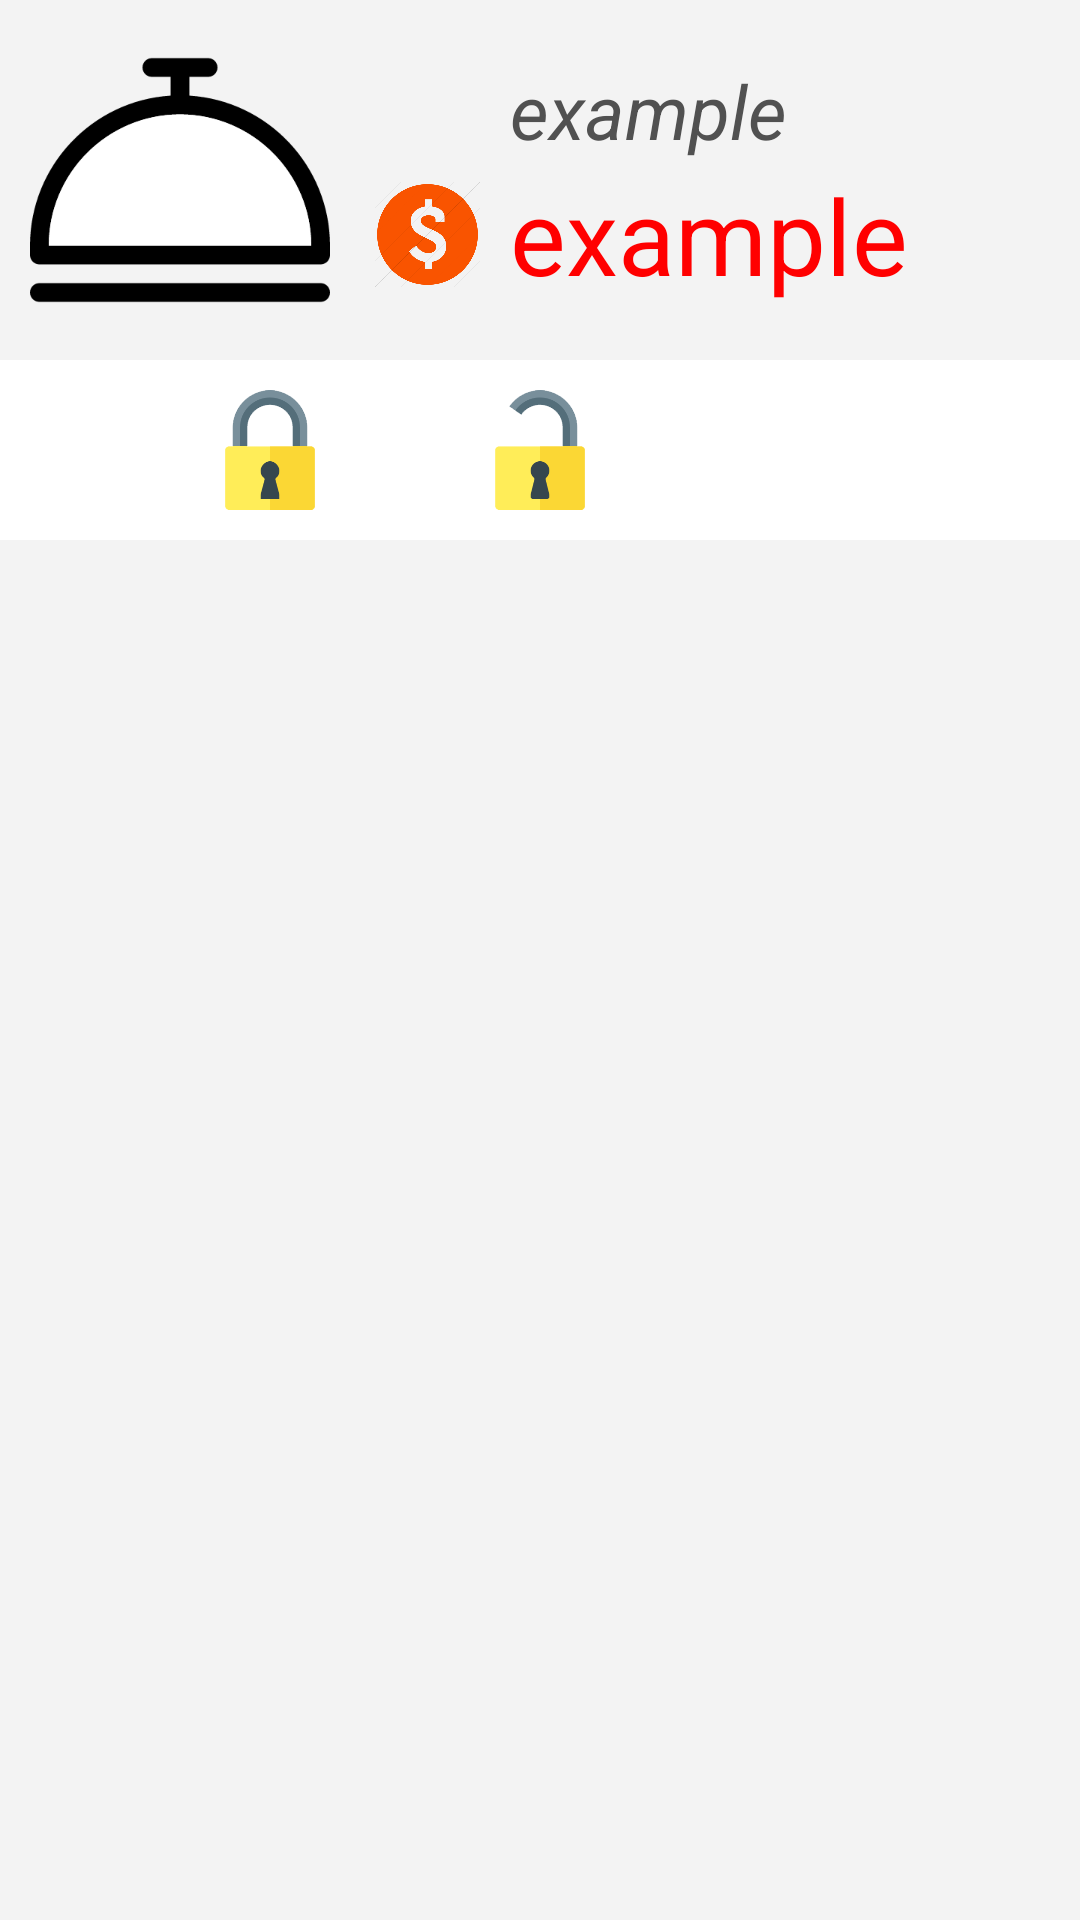

Named icons in this screenshot (1080×1920) and their bounding boxes, (x1, y1, x2, y2):
dishes: (30, 58, 330, 302)
lock: (225, 390, 315, 510)
money: (375, 182, 480, 287)
unlock: (495, 390, 585, 510)
